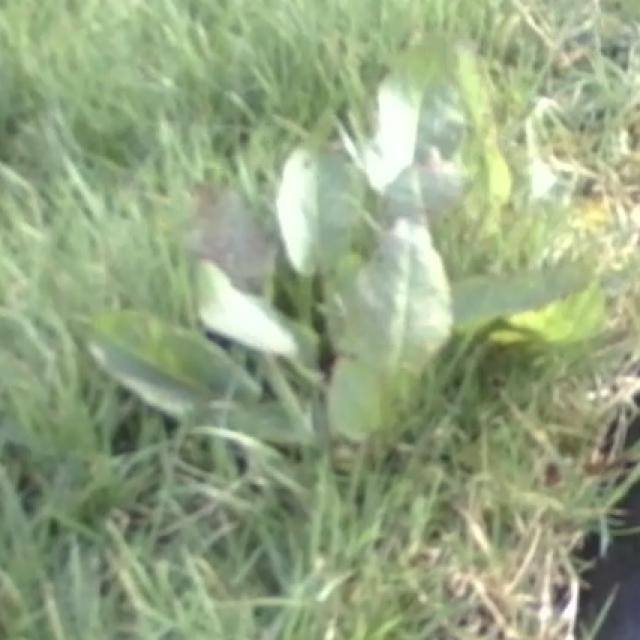organic waste: (124, 57, 559, 464)
